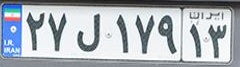character: (70, 9, 106, 57), (131, 9, 157, 59), (156, 8, 181, 59), (22, 7, 47, 54), (46, 8, 70, 56), (110, 9, 131, 57), (206, 21, 229, 61), (185, 21, 204, 60)
